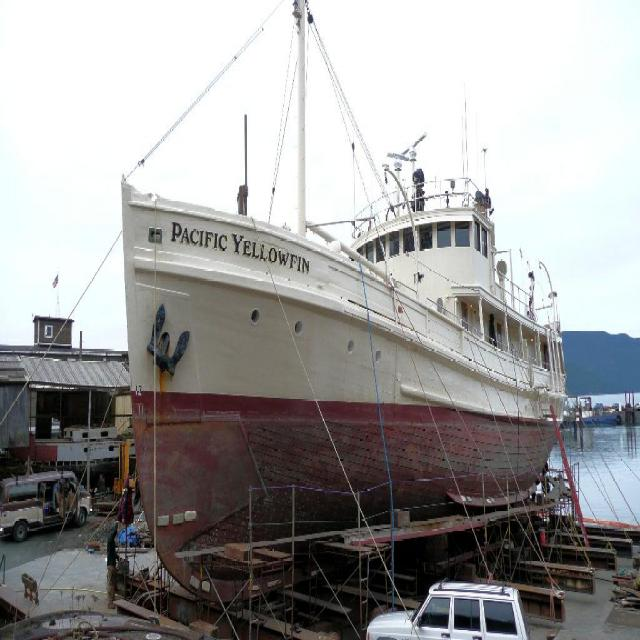other: (364, 573, 528, 639)
